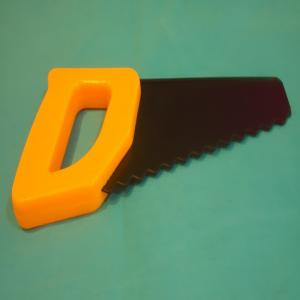serrote: (11, 65, 292, 231)
